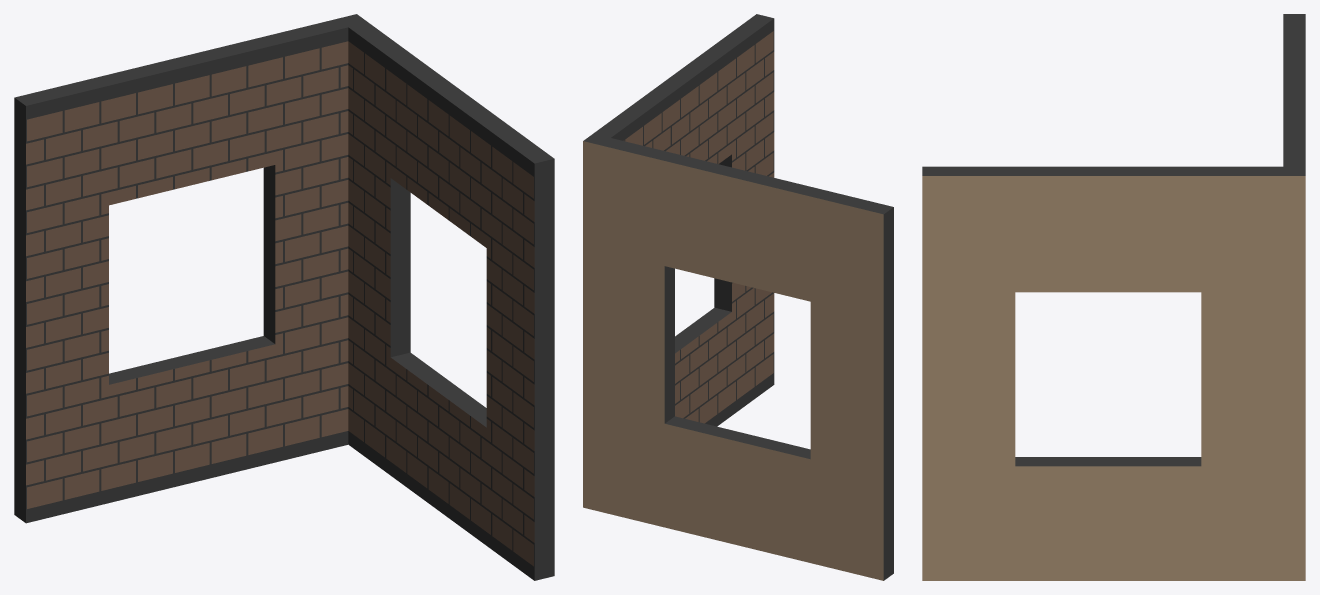
File: Wall3_C10_12.fbx
3 views of the same model, side by side, from view 1: azimuth 30°, elevation 25°; view 2: azimuth 150°, elevation 25°; view 3: azimuth 270°, elevation 25° (orthographic). The views are drawn at different scales.
Parts seen in each view (by area): view 1: Wall3_C10_12; view 2: Wall3_C10_12; view 3: Wall3_C10_12.
Boxes of the visible parts, x1,y1,x2,y2 form: Wall3_C10_12: (14,14,554,580); Wall3_C10_12: (583,14,893,580); Wall3_C10_12: (922,14,1305,580).
Bounding box in the file's own units: 258 × 300 × 258.
